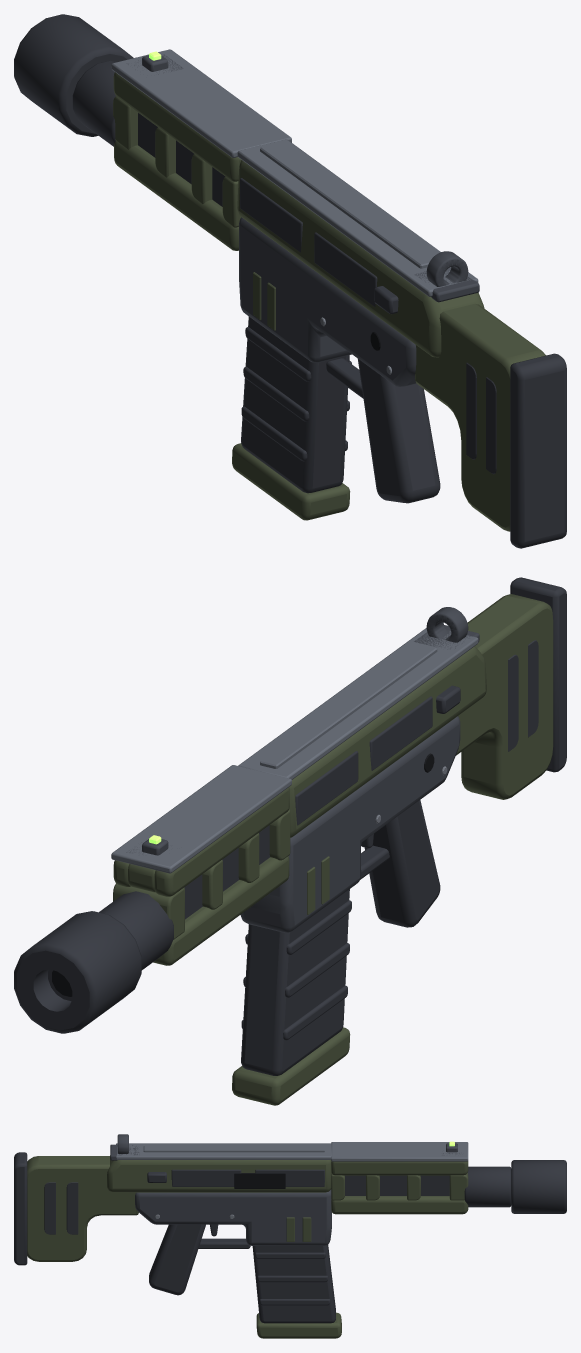
3 views of the same model, one above another, from view 1: azimuth 30°, elevation 25°; view 2: azimuth 150°, elevation 25°; view 3: azimuth 270°, elevation 25° (orthographic). The views are drawn at different scales.
Visible parts, largest first — view 1: deck_wzB, mag_wzB, body_wzB, stock_wzA, barrel_wzB, stock_wzB, guard_wzA, grip_wzB, body_wzA, body_wzN, mag_wzN, sight_wzN (+3 smaller); view 2: barrel_wzB, deck_wzB, mag_wzB, stock_wzA, body_wzB, guard_wzA, body_wzA, grip_wzB, body_wzN, stock_wzB, mag_wzN, sight_wzN (+3 smaller); view 3: body_wzB, stock_wzA, barrel_wzB, mag_wzB, guard_wzA, deck_wzB, body_wzA, grip_wzB, body_wzN, stock_wzB, sight_wzN, mag_wzN (+4 smaller).
Boxes of the visible parts, box(x1,y1,x2,y2) form: deck_wzB: box(111, 49, 478, 296); mag_wzB: box(241, 316, 351, 493); body_wzB: box(239, 217, 416, 386); stock_wzA: box(415, 303, 545, 531); barrel_wzB: box(14, 14, 225, 206); stock_wzB: box(510, 353, 566, 548); guard_wzA: box(113, 72, 241, 250); grip_wzB: box(326, 358, 440, 503); body_wzA: box(237, 160, 484, 357); body_wzN: box(240, 178, 377, 306); mag_wzN: box(232, 443, 350, 520); sight_wzN: box(260, 144, 432, 268); barrel_wzB: box(14, 825, 269, 1033); deck_wzB: box(111, 628, 478, 873); mag_wzB: box(241, 889, 351, 1075); stock_wzA: box(456, 594, 553, 799); body_wzB: box(240, 716, 460, 932); guard_wzA: box(113, 787, 290, 965); body_wzA: box(289, 646, 486, 837); grip_wzB: box(360, 800, 440, 927); body_wzN: box(295, 696, 432, 825); stock_wzB: box(510, 577, 566, 772); mag_wzN: box(232, 1027, 350, 1105); sight_wzN: box(260, 644, 437, 768); body_wzB: box(135, 1189, 331, 1245); stock_wzA: box(27, 1156, 138, 1261); barrel_wzB: box(345, 1160, 566, 1213); mag_wzB: box(252, 1244, 335, 1323); guard_wzA: box(331, 1161, 468, 1214); deck_wzB: box(116, 1142, 468, 1161); body_wzA: box(107, 1155, 331, 1192); grip_wzB: box(149, 1224, 250, 1295); body_wzN: box(171, 1169, 324, 1186); stock_wzB: box(14, 1152, 27, 1265); sight_wzN: box(143, 1145, 324, 1152); mag_wzN: box(256, 1312, 341, 1338).
Size of the model in its own units: 0.1153 by 0.469 by 1.19.
